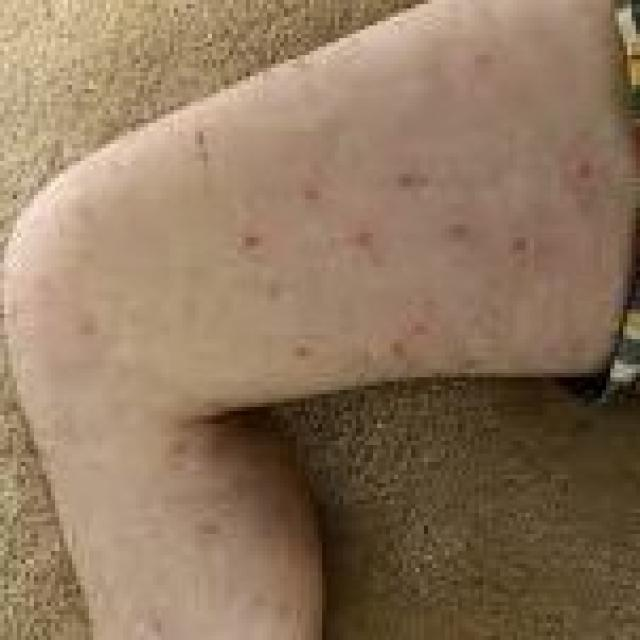kan emici bocekler: (554, 150, 621, 218), (55, 284, 112, 355), (362, 333, 428, 370), (362, 223, 406, 277), (229, 220, 277, 268), (435, 213, 485, 259), (288, 167, 337, 213), (174, 523, 260, 548), (383, 153, 426, 201), (397, 298, 448, 338), (509, 223, 539, 274), (173, 428, 200, 477)
